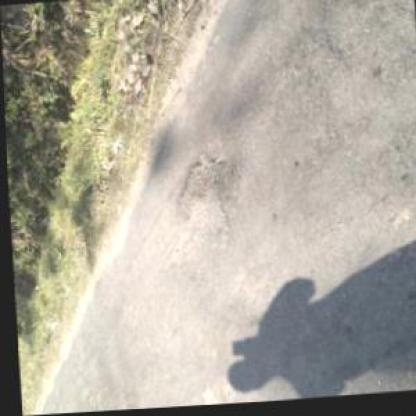pothole: (172, 151, 230, 236)
